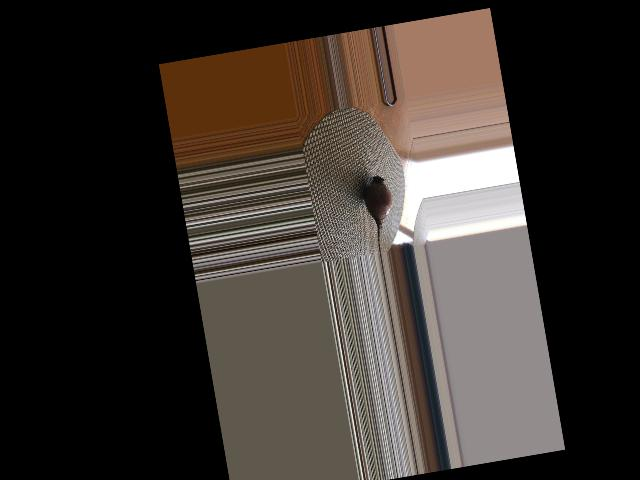beet: (361, 173, 400, 253)
